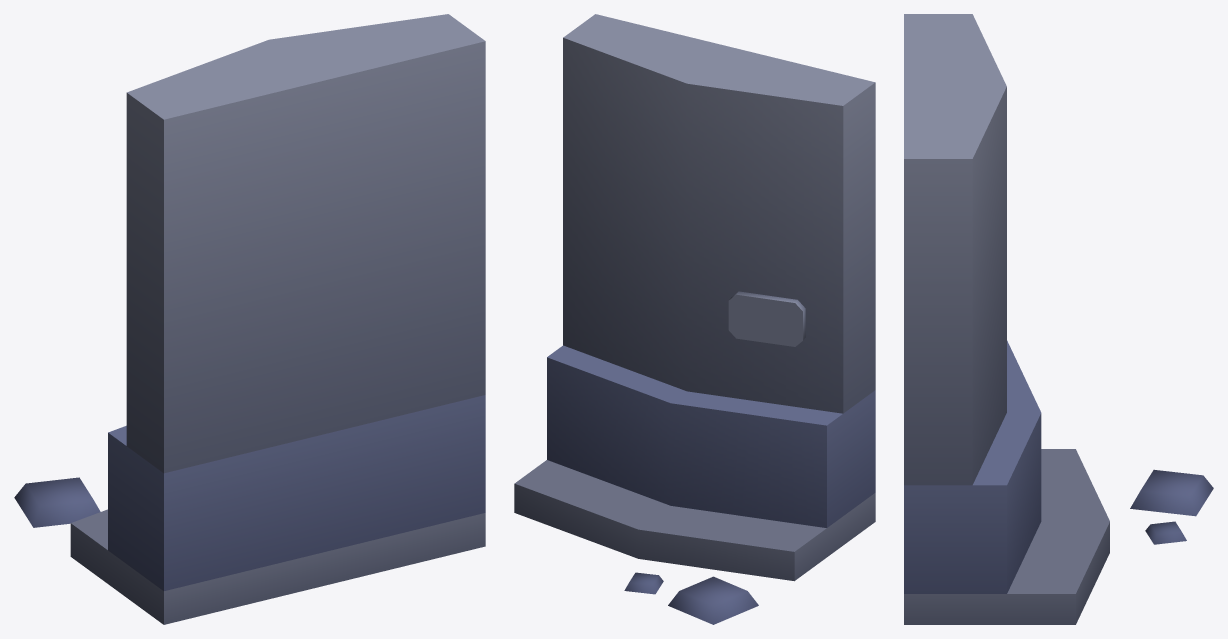
Rendered from template-wall-half.fbx.
3 views of the same model, side by side, from view 1: azimuth 30°, elevation 25°; view 2: azimuth 150°, elevation 25°; view 3: azimuth 270°, elevation 25° (orthographic). The views are drawn at different scales.
Parts seen in each view (by area): view 1: template-wall-half; view 2: template-wall-half; view 3: template-wall-half.
Part boxes in pixels (<box>): template-wall-half: <box>14,14,485,624</box>; template-wall-half: <box>514,14,875,624</box>; template-wall-half: <box>904,14,1213,624</box>.
Size of the model in its own units: 200 by 300 by 181.
Materials: 1 (1 with a texture image).
